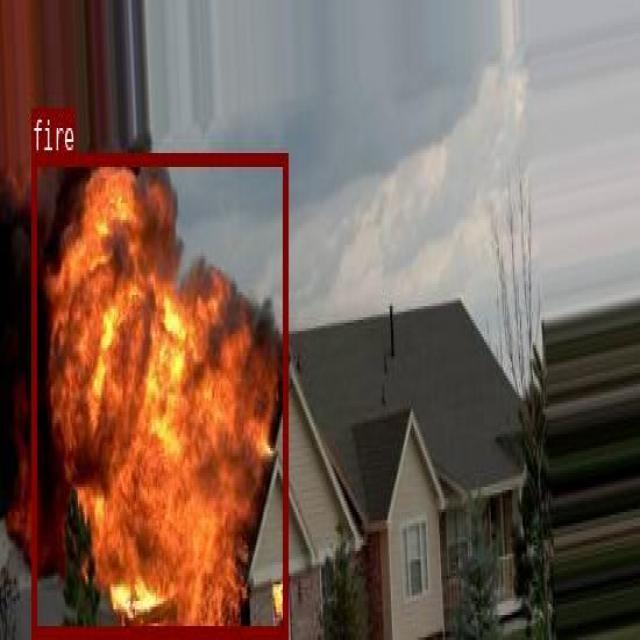fire: (31, 152, 286, 634)
